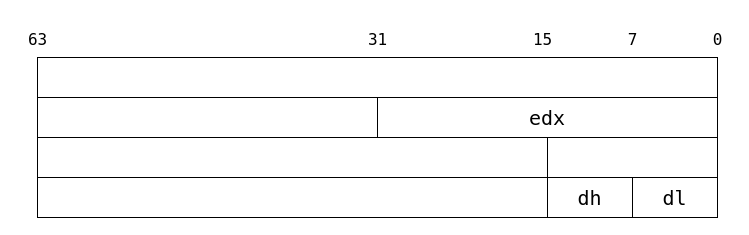
The diagram is 749 pixels wide and 235 high, and some of its shapes have lost their labels. The box of each missing label's shape, as (x1, y1, x2, y2) in pixels:
dx: (546, 136, 718, 178)
rdx(r2): (36, 56, 718, 98)
